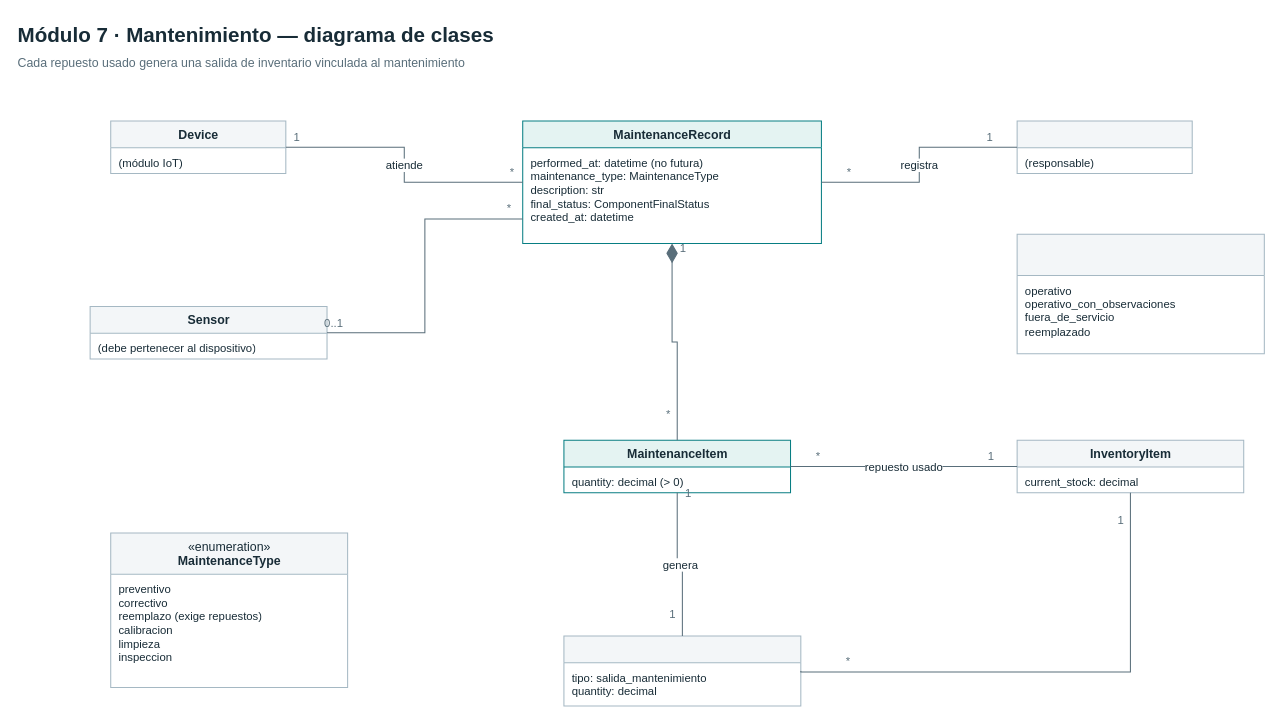
Some shapes in this 1282 by 726 pixel diagram are drawn without their labels. Here are the shapes that lost their labels. From the top down, the box of each, then its label:
(1016, 120, 1192, 174): User
(1016, 233, 1264, 354): «enumeration» ComponentFinalStatus
(563, 635, 801, 706): InventoryMovement
